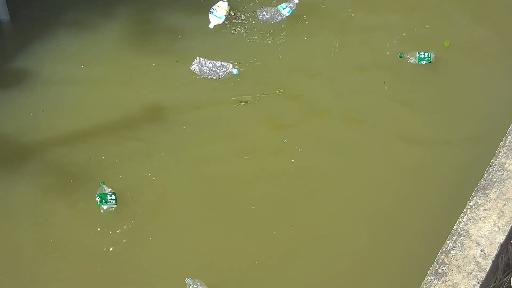leaf: (441, 39, 450, 50)
plastic: (189, 56, 242, 83), (91, 181, 124, 215), (253, 2, 301, 24), (202, 2, 229, 32), (180, 275, 216, 288)
